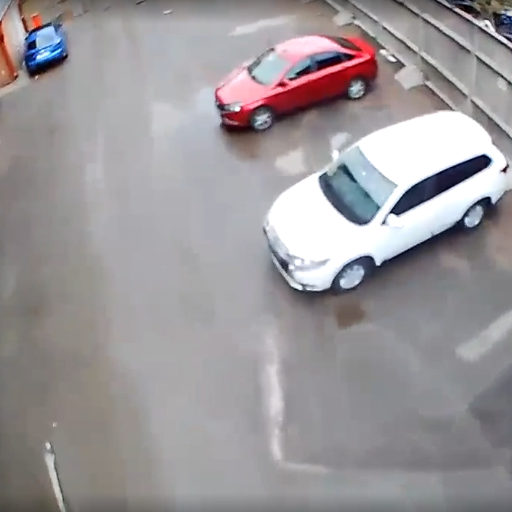Car: (260, 110, 512, 294), (212, 33, 377, 129), (21, 21, 71, 74)
